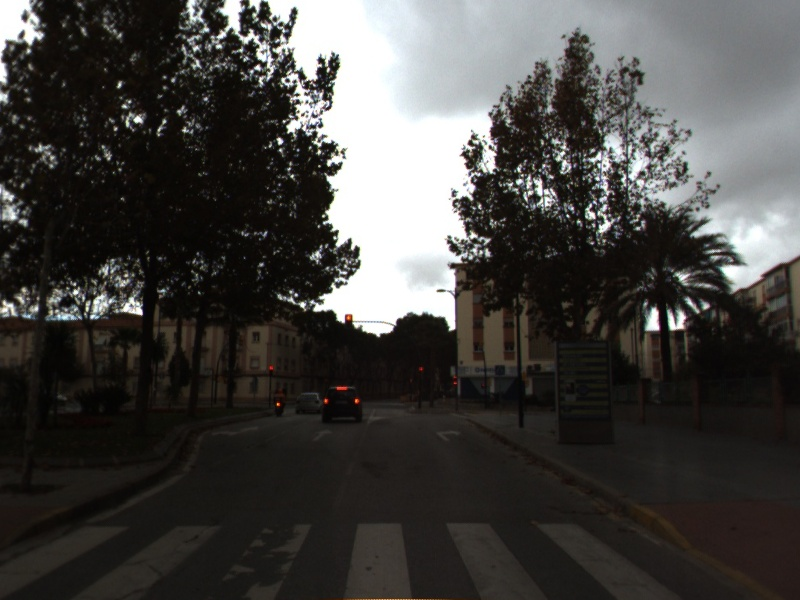RIGHT: (433, 427, 464, 444)
STRAIGHT: (309, 427, 336, 443)
STRAIGHT_LEFT: (208, 423, 262, 440)
